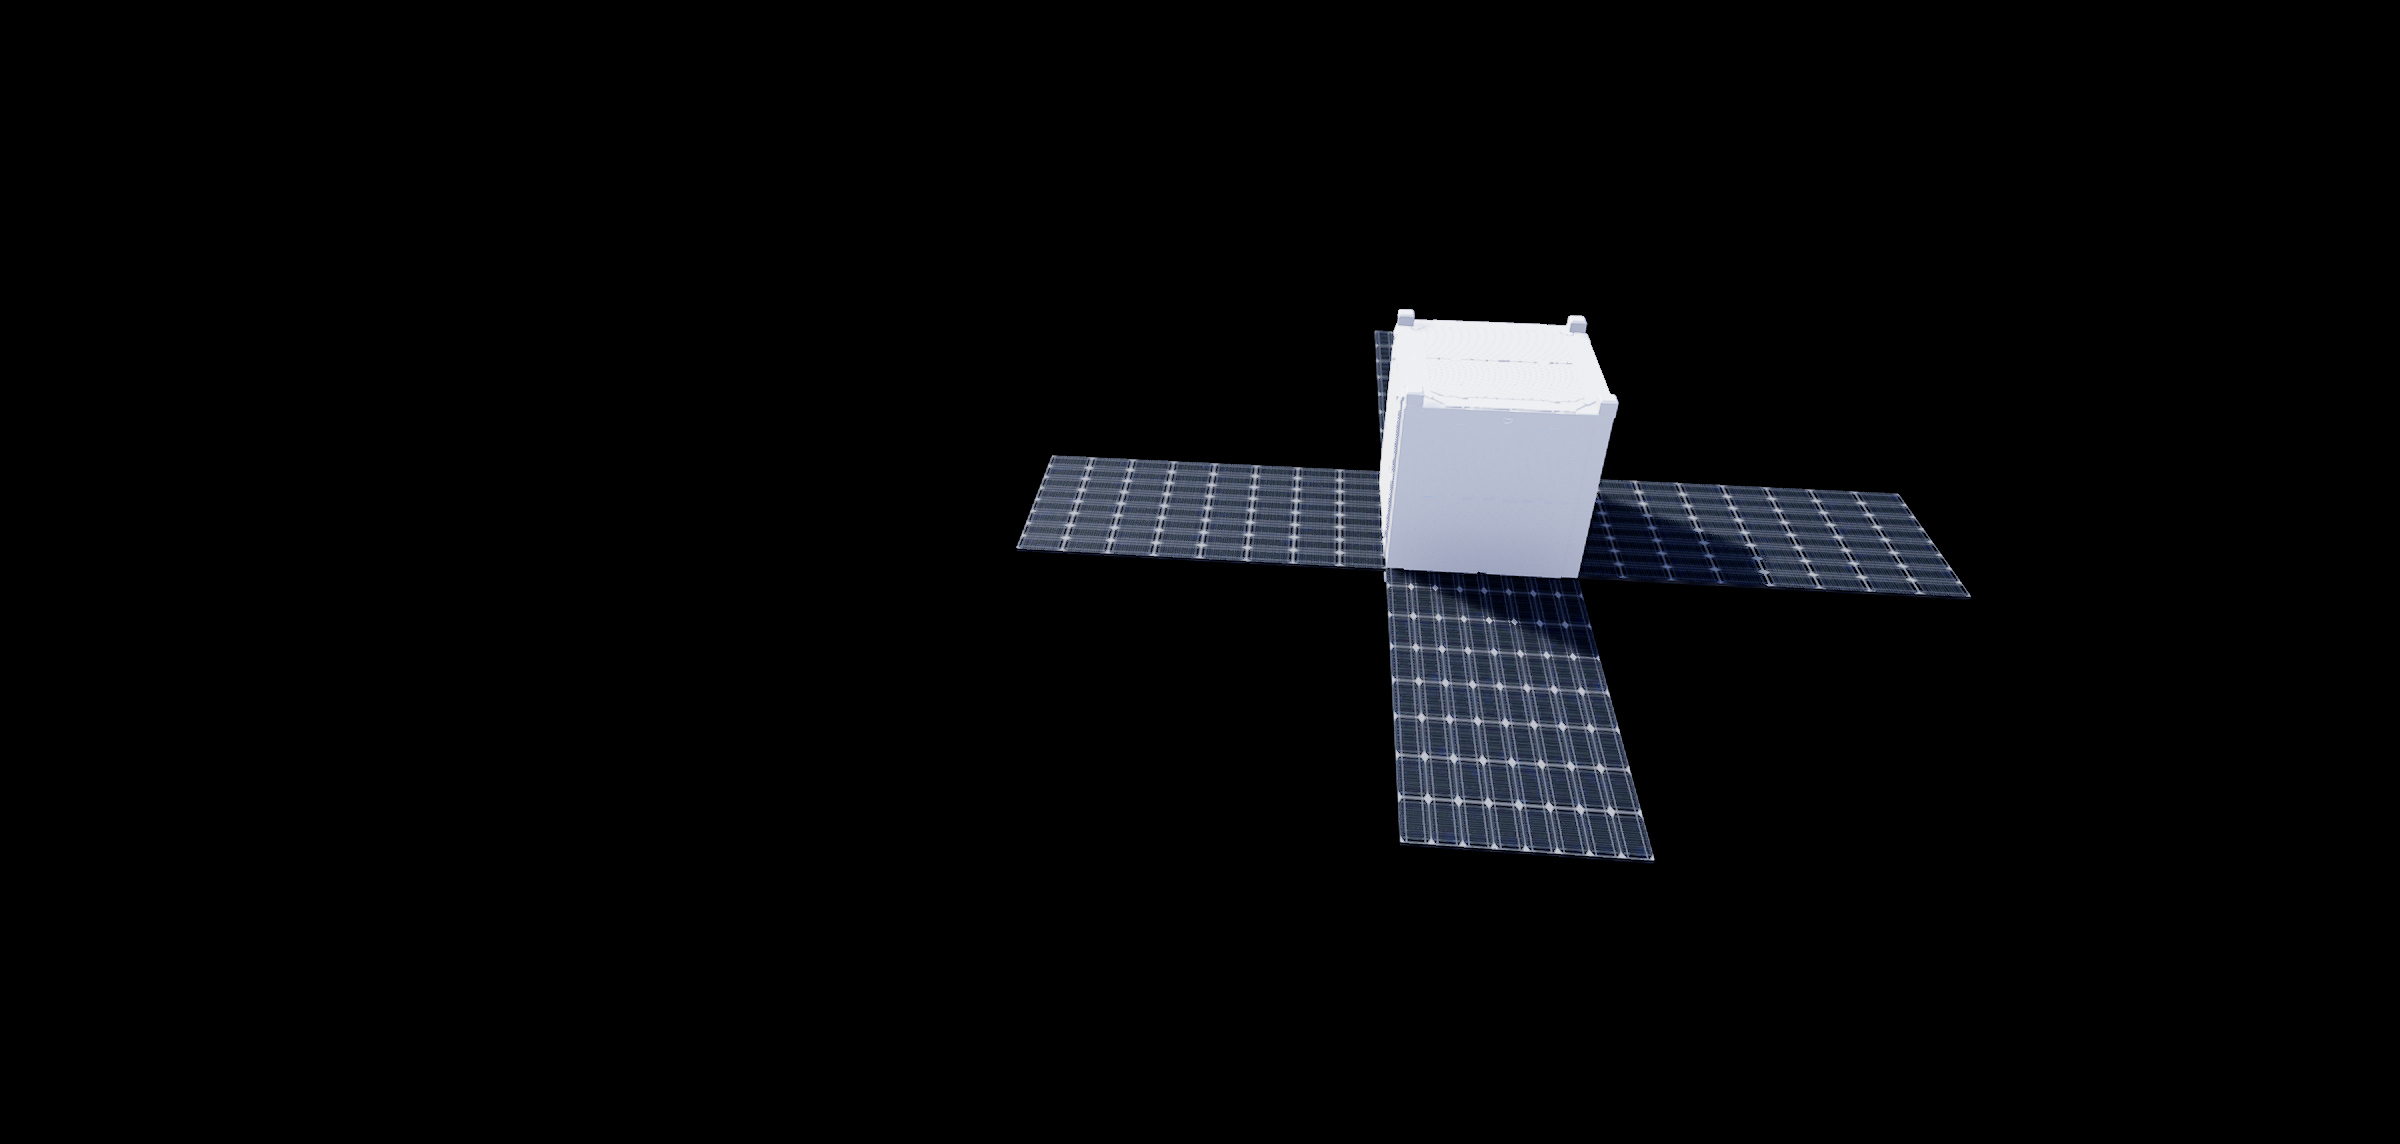satellite: (1006, 282, 1985, 876)
